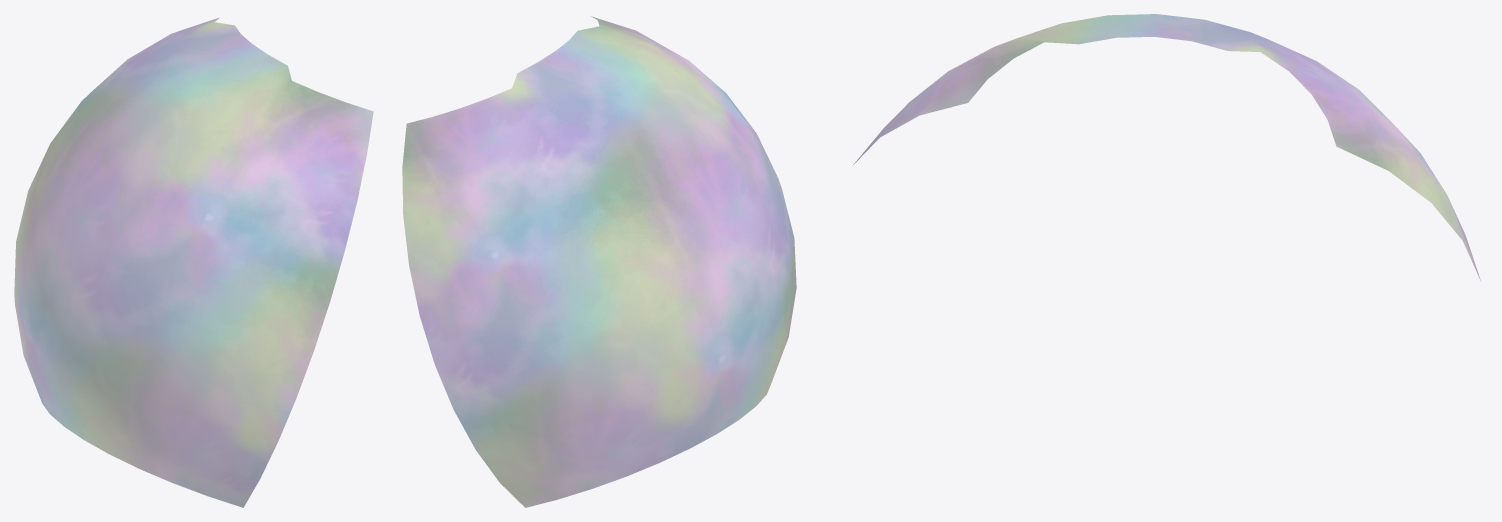
File: bubble_mountain.glb
The picture shows the model from 3 angles, left to right: view 1: azimuth 30°, elevation 25°; view 2: azimuth 150°, elevation 25°; view 3: azimuth 270°, elevation 25°; orthographic projection. The views are drawn at different scales.
Parts seen in each view (by area): view 1: bubble.png__; view 2: bubble.png__; view 3: bubble.png__.
Part boxes in pixels (box(x1,y1,x2,y2)): bubble.png__: box(14, 17, 373, 507); bubble.png__: box(402, 16, 796, 507); bubble.png__: box(853, 14, 1480, 280).
Size of the model in its own units: 5.17 by 6.68 by 7.91.
Materials: 1 (1 with a texture image).
